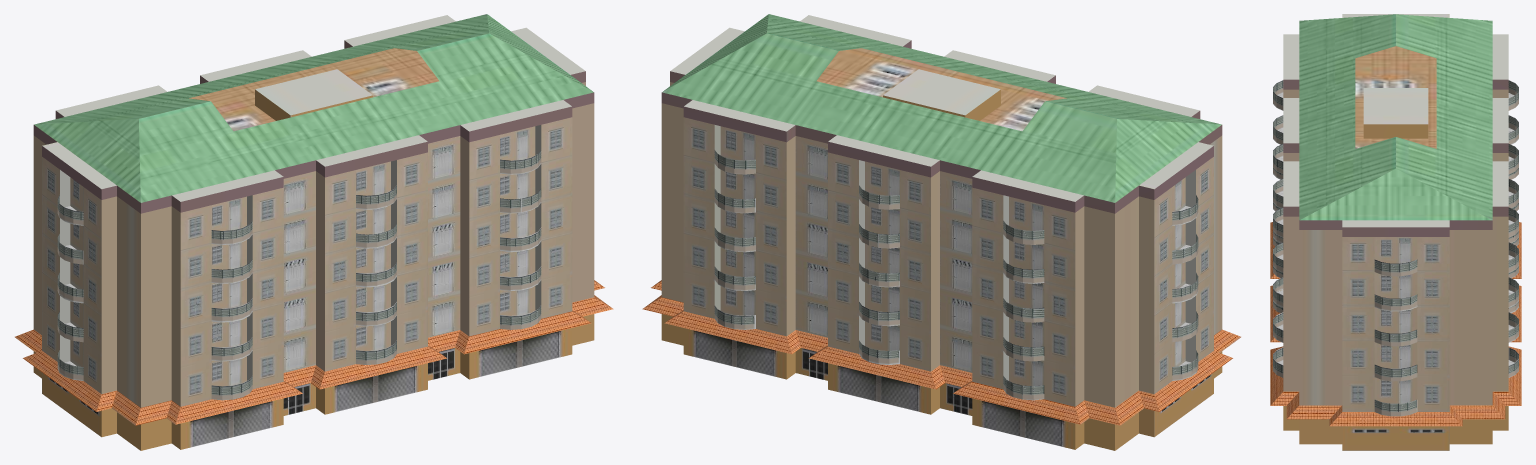
3 renders of one model, left to right at view 1: azimuth 30°, elevation 25°; view 2: azimuth 150°, elevation 25°; view 3: azimuth 270°, elevation 25°, orthographic. The views are drawn at different scales.
Visible parts, largest first — view 1: HN473___N6B__N6D__N6C.002; view 2: HN473___N6B__N6D__N6C.002; view 3: HN473___N6B__N6D__N6C.002.
Boxes of the visible parts, box(x1,y1,x2,y2) form: HN473___N6B__N6D__N6C.002: box(15, 14, 613, 450); HN473___N6B__N6D__N6C.002: box(642, 14, 1240, 450); HN473___N6B__N6D__N6C.002: box(1270, 14, 1521, 450).
Bounding box in the file's own units: 49.4 × 26 × 23.4.
Materials: 1 (1 with a texture image).
